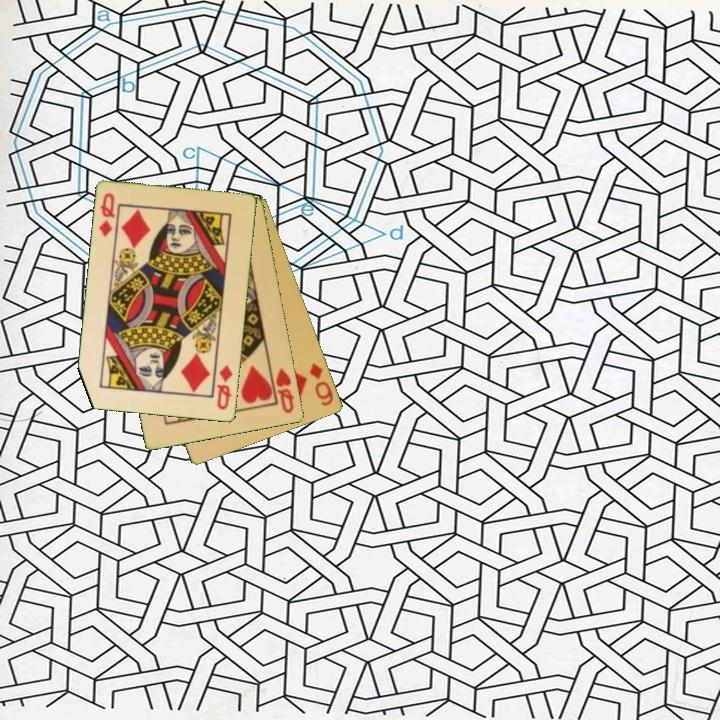6d: (306, 360, 337, 409)
Qd: (214, 361, 236, 413), (96, 190, 118, 240)
Qh: (268, 363, 297, 416)
